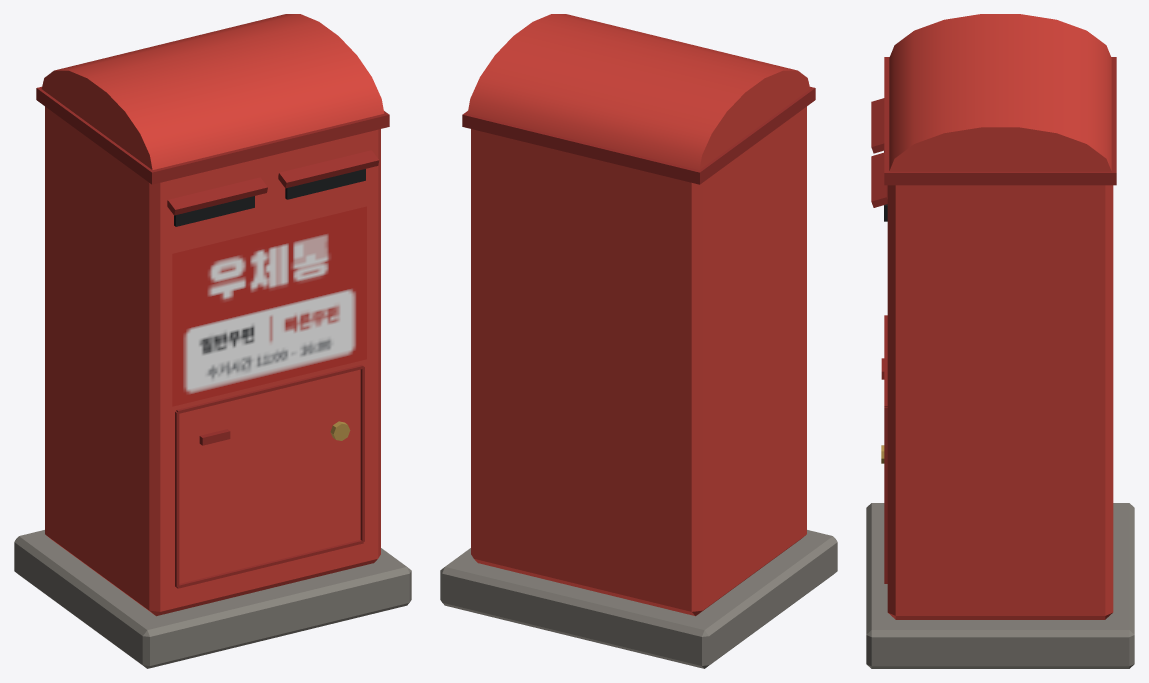
The model's file is SC_Util_Postbox.gltf.
3 views of the same model, side by side, from view 1: azimuth 30°, elevation 25°; view 2: azimuth 150°, elevation 25°; view 3: azimuth 270°, elevation 25° (orthographic).
Visible parts, largest first — view 1: SC_Util_Postbox; view 2: SC_Util_Postbox; view 3: SC_Util_Postbox.
Boxes of the visible parts, x1,y1,x2,y2 form: SC_Util_Postbox: (14,14,411,668); SC_Util_Postbox: (440,14,837,668); SC_Util_Postbox: (866,14,1134,668).
Bounding box in the file's own units: 0.58 × 1.1 × 0.5.
Materials: 2 (2 with a texture image).
